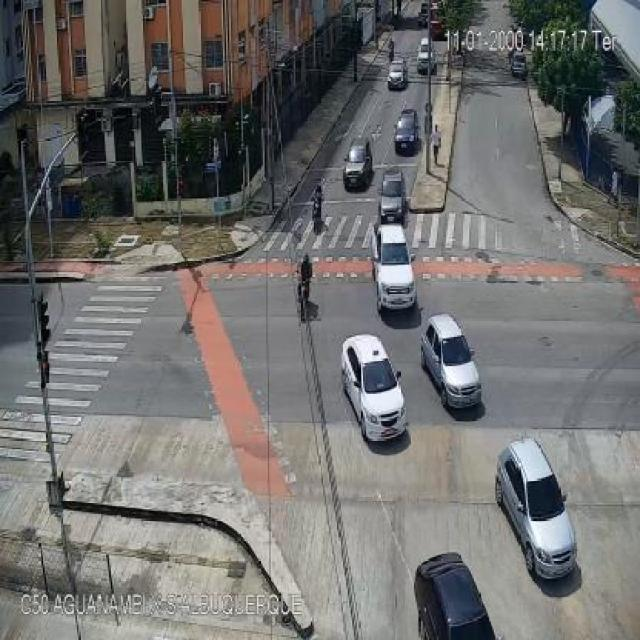Car: (494, 436, 577, 581), (415, 550, 496, 640), (340, 334, 406, 442), (421, 316, 483, 410), (369, 226, 416, 312), (378, 169, 406, 223), (343, 141, 372, 187), (394, 109, 418, 153), (416, 41, 436, 75), (387, 58, 408, 89), (510, 51, 528, 79)
Cycle: (294, 269, 316, 320), (309, 196, 325, 230)
